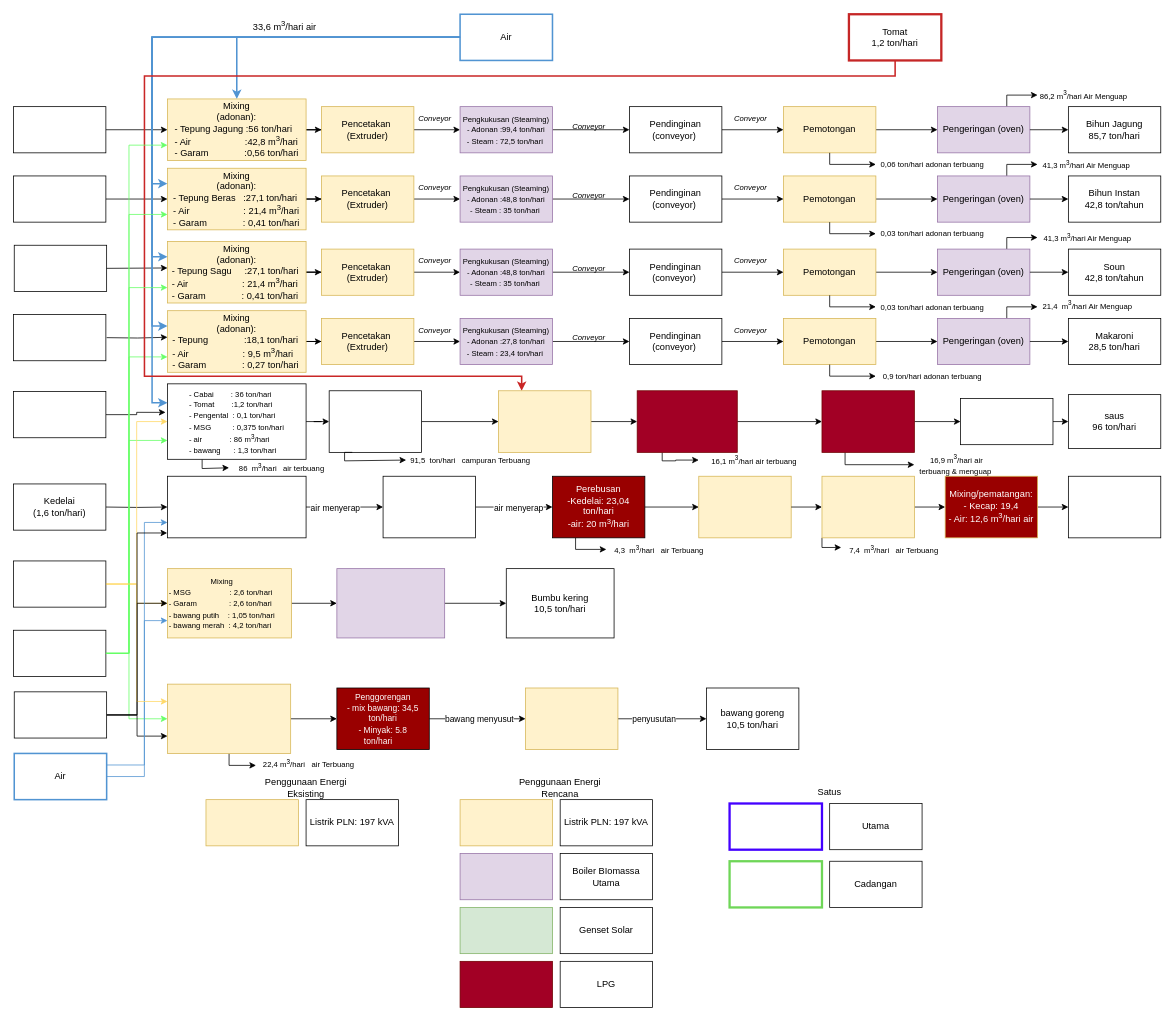
This 1174x1021 diagram has some shape labels left out. Each missing label, with the centre of its shape:
bawang (49,6 ton/hari): point (60, 714)
Blaching -Pasta saus :33,3 ton /hari - Air : 96 m 3 /hari: point (686, 421)
Cabai: 36 ton/hari: point (59, 414)
Ekstraksi: point (867, 506)
Fermentasi - kedelai : 20,7 ton/hari - Garam : 0,7 ton/hari - Air : 18 m 3 /hari: point (744, 506)
Flash Drying: point (390, 603)
Garam: point (59, 652)
Kecap 32 ton/hari: point (1114, 506)
MSG 3 ton/hari: point (59, 583)
Pemasakan Akhir - 113 ton/hari saus: point (867, 421)
Pembuangan Biji: point (375, 421)
Pencucian - Air : 22,4 ton/hari - bawang : 42 ton/hari: point (229, 718)
Pencucian - Kedelai: 12,8 ton/hari - air : 4,8m 3 /hari: point (236, 506)
Pendinginan - Bawang goreng: 13,6 ton/hari: point (571, 718)
Pengemasan: point (1006, 421)
Penggilingan - Cabai: 35,7 ton/hari - Tomat: 1,2 ton/hari -Bawang :4 ton/hari: point (544, 421)
Perendaman Kedelai : 17,9 ton/hari Air :3,2 m 3 /hari: point (428, 506)
Tepung Beras (27,1 ton/hari ): point (59, 198)
Tepung Jagung (56,03 ton/hari ): point (59, 129)
Tepung Sagu (27,1 ton/hari ): point (60, 267)
Tepung Semolina (18,1 ton/hari): point (59, 337)
